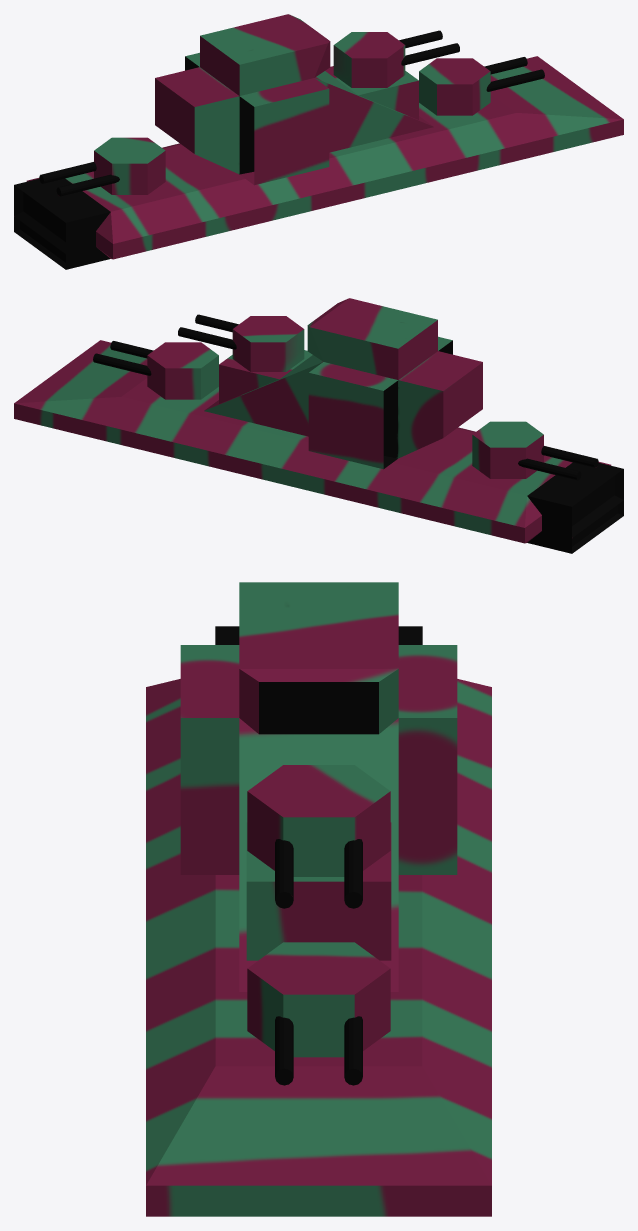
The model's file is RedforDestroyer.fbx.
The picture shows the model from 3 angles, top to bottom: view 1: azimuth 30°, elevation 25°; view 2: azimuth 150°, elevation 25°; view 3: azimuth 270°, elevation 25°; orthographic projection. The views are drawn at different scales.
Visible parts, largest first — view 1: Cube; view 2: Cube; view 3: Cube.
Part boxes in pixels (x1,y1,x2,y2): Cube: (14, 14, 623, 269); Cube: (14, 298, 623, 553); Cube: (146, 582, 491, 1216).
Bounding box in the file's own units: 3610 × 1000 × 1000.
Materials: 1 (1 with a texture image).
